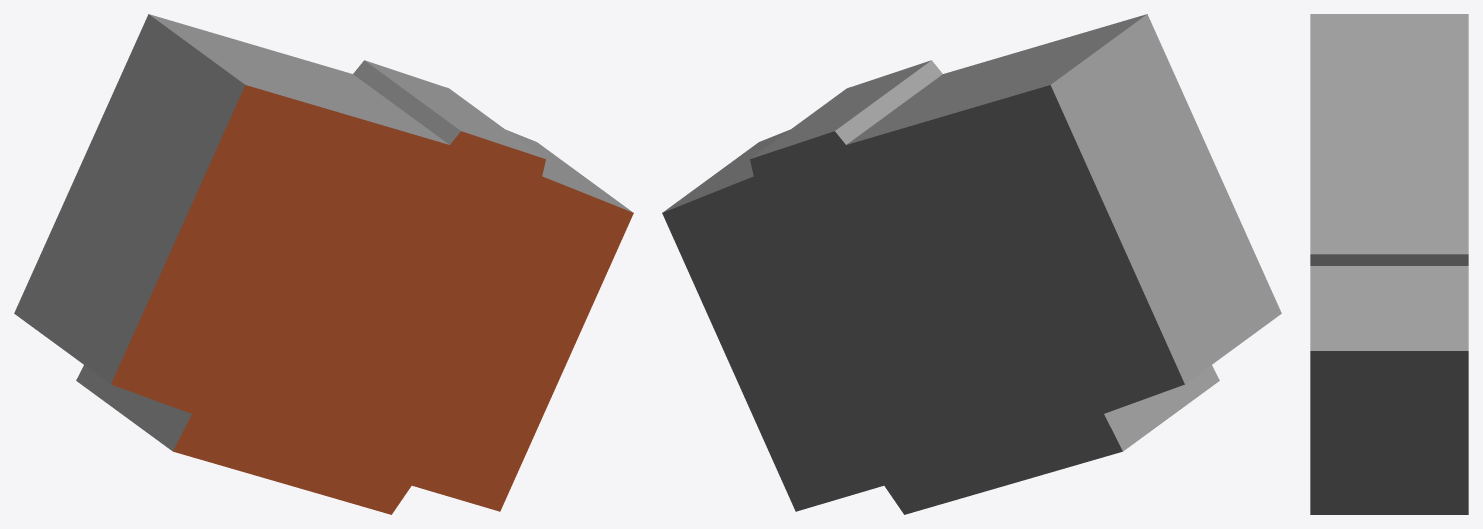
The model's file is construction_0750_assumed_A_Casa_h6m.obj.
The picture shows the model from 3 angles, left to right: view 1: azimuth 30°, elevation 25°; view 2: azimuth 150°, elevation 25°; view 3: azimuth 270°, elevation 25°; orthographic projection. The views are drawn at different scales.
Visible parts, largest first — view 1: construction_0750_assumed_A_Casa; view 2: construction_0750_assumed_A_Casa; view 3: construction_0750_assumed_A_Casa.
Part boxes in pixels (left/top/right/bottom): construction_0750_assumed_A_Casa: left=14, top=14, right=633, bottom=514; construction_0750_assumed_A_Casa: left=662, top=14, right=1281, bottom=514; construction_0750_assumed_A_Casa: left=1310, top=14, right=1468, bottom=514.
Bounding box in the file's own units: 18.69 × 16.71 × 6.
